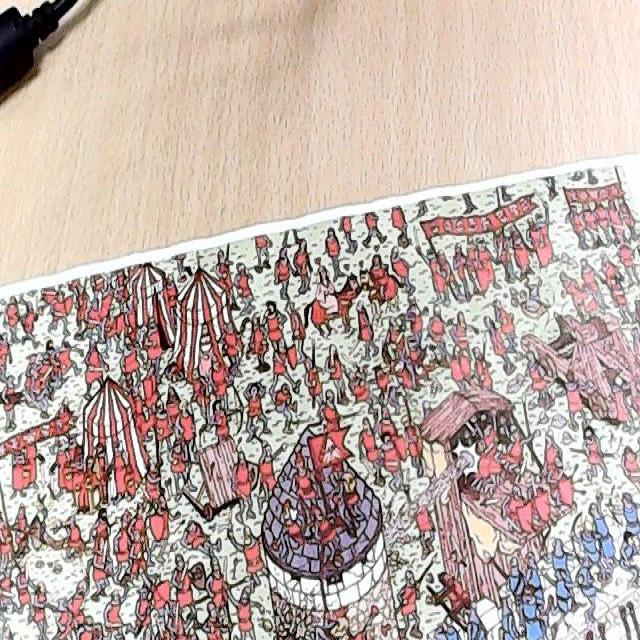waldo: (462, 372, 480, 392)
